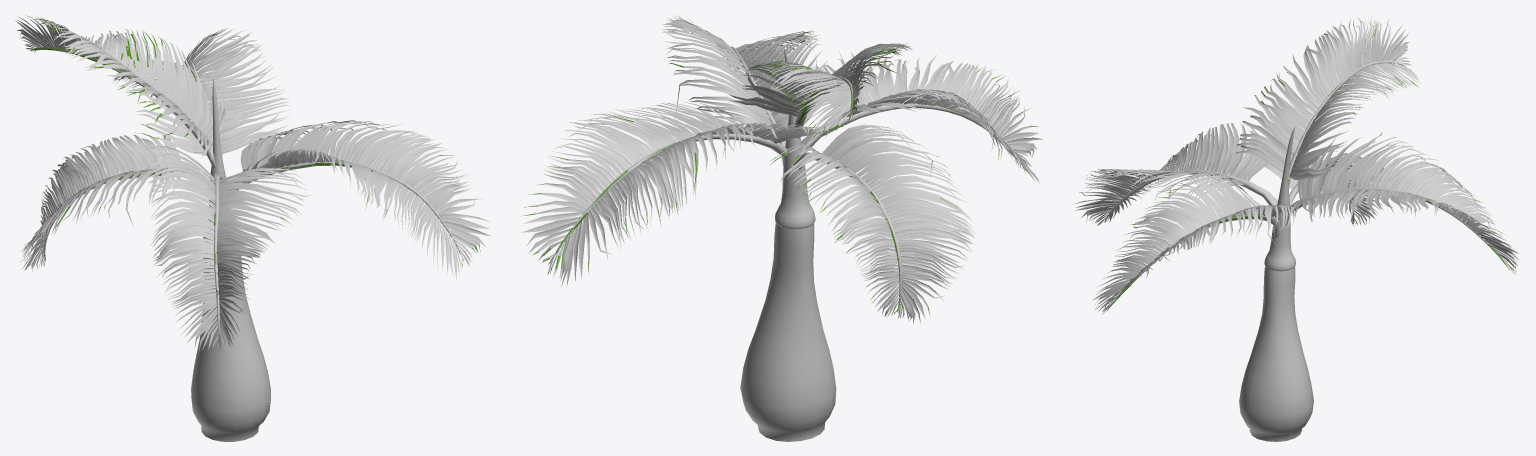
File: palmeira.obj
3 renders of one model, left to right at view 1: azimuth 30°, elevation 25°; view 2: azimuth 150°, elevation 25°; view 3: azimuth 270°, elevation 25°, orthographic. The views are drawn at different scales.
Parts seen in each view (by area): view 1: Hyophorbe_Lagenicaulis_foliage_1; view 2: Hyophorbe_Lagenicaulis_foliage_1; view 3: Hyophorbe_Lagenicaulis_foliage_1.
Boxes of the visible parts, left/top/right/bottom form: Hyophorbe_Lagenicaulis_foliage_1: left=15, top=15, right=490, bottom=441; Hyophorbe_Lagenicaulis_foliage_1: left=521, top=16, right=1043, bottom=441; Hyophorbe_Lagenicaulis_foliage_1: left=1075, top=17, right=1520, bottom=441.
Bounding box in the file's own units: 4.24 × 4.68 × 5.33.
